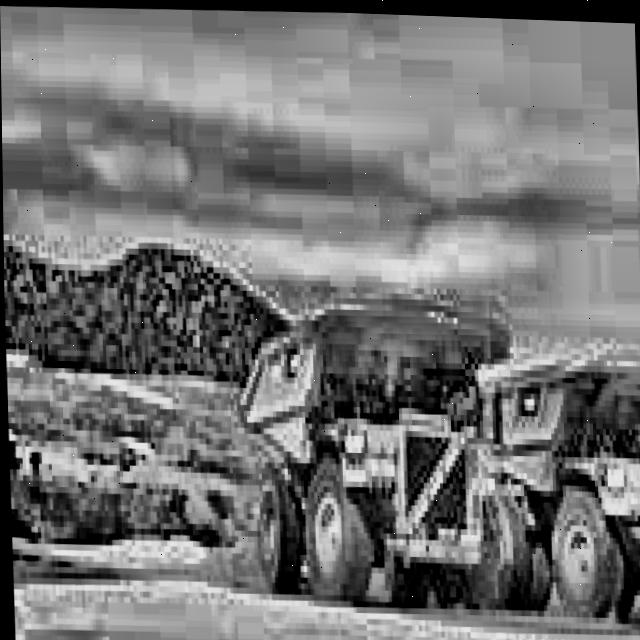dump_truck: (221, 232, 500, 628), (503, 261, 640, 627)
